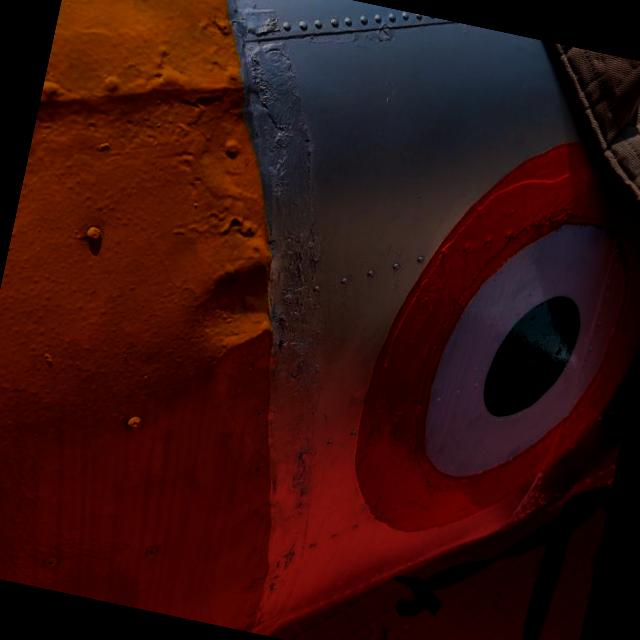dent: (154, 222, 328, 402)
